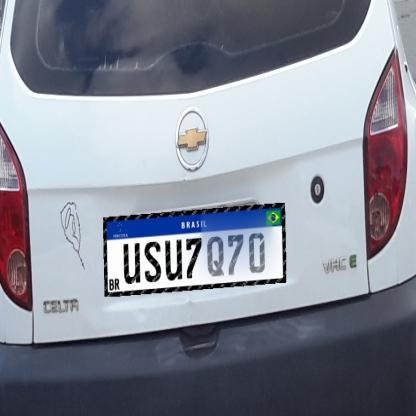PlacaM: (103, 203, 286, 297)
